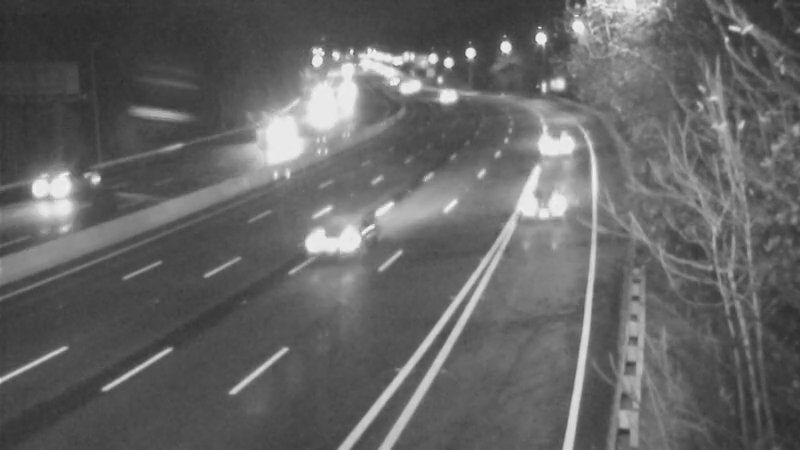vehicle: (505, 161, 585, 241), (294, 202, 374, 282), (7, 151, 87, 231), (414, 69, 464, 119), (521, 117, 571, 167), (260, 117, 310, 167)
